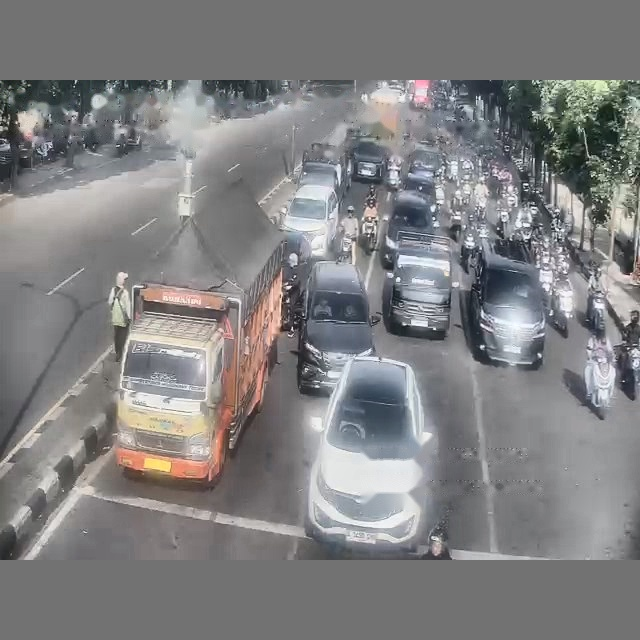Mobil: (305, 357, 436, 551), (297, 261, 380, 392), (469, 240, 545, 367), (380, 190, 436, 268), (280, 185, 339, 258), (296, 162, 341, 198), (352, 140, 388, 182), (402, 172, 435, 199), (0, 137, 13, 180)
Motor: (586, 349, 615, 419), (550, 278, 573, 337), (618, 343, 639, 400), (281, 274, 297, 330), (460, 227, 477, 272), (587, 291, 605, 330), (361, 213, 377, 254), (336, 234, 354, 263), (449, 206, 462, 241), (496, 209, 509, 238)
Truk: (115, 179, 284, 485)
